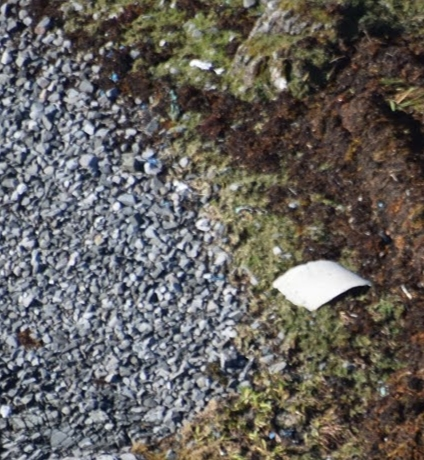cuboid: (266, 251, 377, 317)
scattered_barrel: (92, 34, 227, 177)
